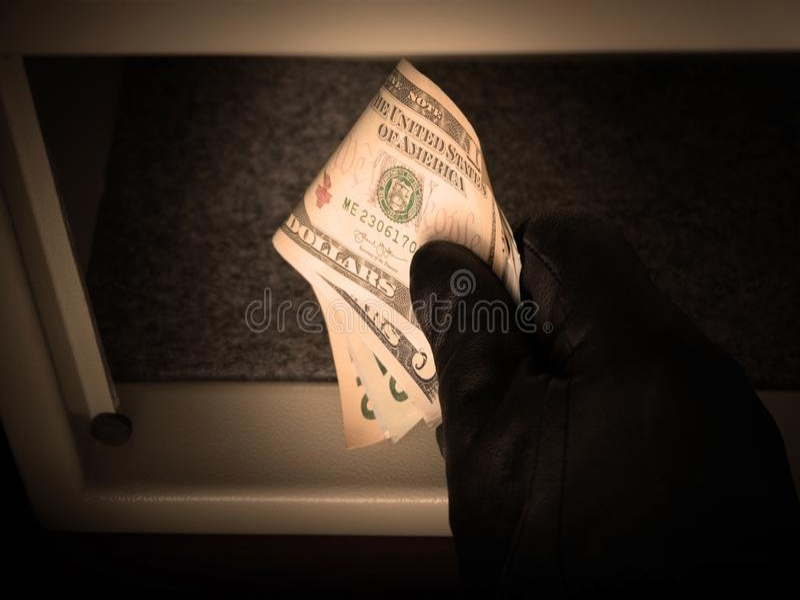cash: (271, 56, 523, 451)
